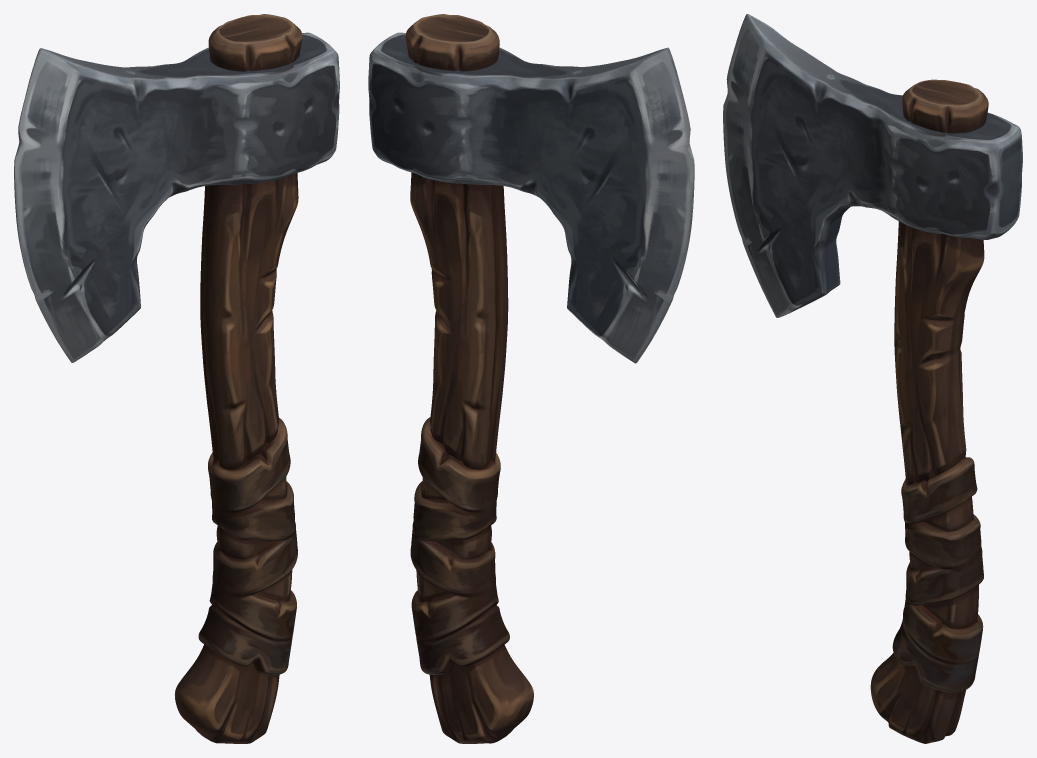
The model's file is Meshy_AI_Stylized_fantasy_survival_RPG_one_handed_20261105_texture.fbx.
3 renders of one model, left to right at view 1: azimuth 30°, elevation 25°; view 2: azimuth 150°, elevation 25°; view 3: azimuth 330°, elevation 25°, orthographic. The views are drawn at different scales.
Parts seen in each view (by area): view 1: Mesh_0; view 2: Mesh_0; view 3: Mesh_0.
Part boxes in pixels (x1=…): Mesh_0: x1=14, y1=14, x2=339, y2=743; Mesh_0: x1=368, y1=14, x2=694, y2=743; Mesh_0: x1=723, y1=14, x2=1022, y2=743.
Bounding box in the file's own units: 84.98 × 190 × 23.12.
1 material, 1 textured.
